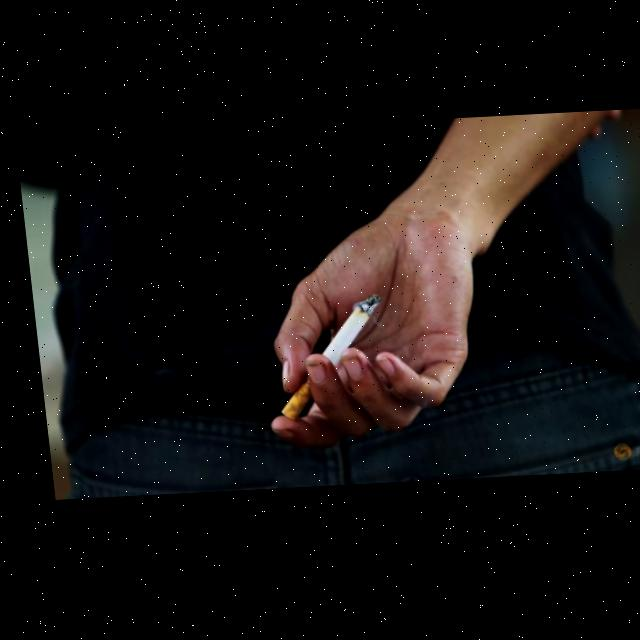cigarette: (263, 297, 384, 423)
